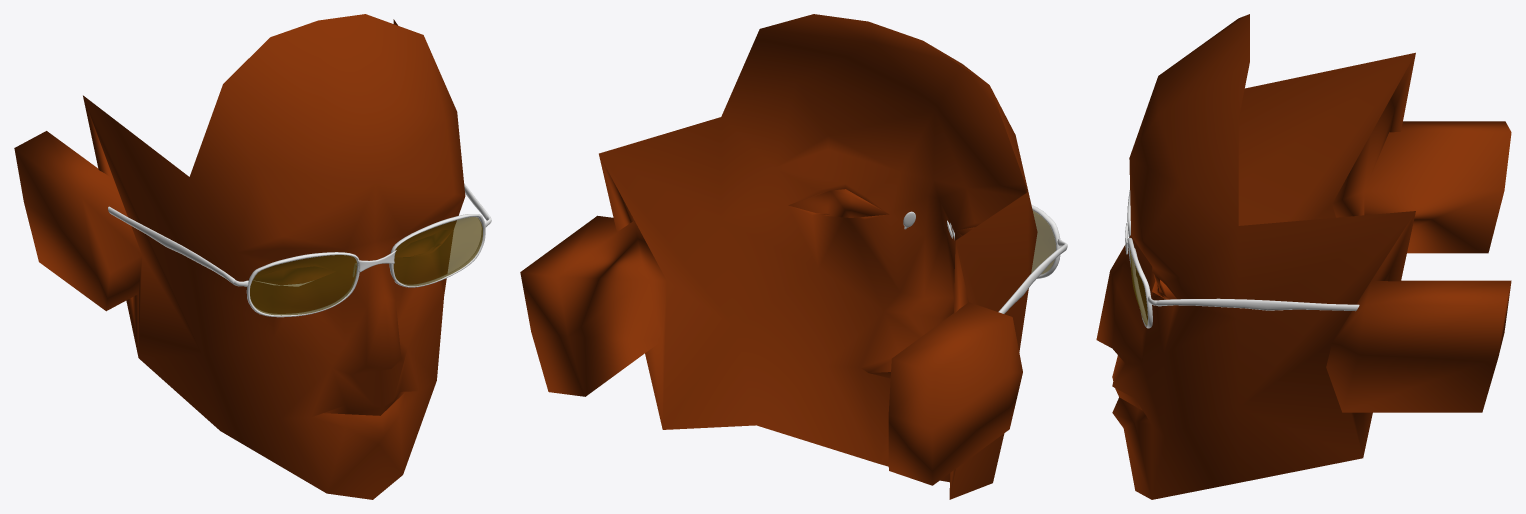
The model's file is glasses8.fbx.
3 views of the same model, side by side, from view 1: azimuth 30°, elevation 25°; view 2: azimuth 150°, elevation 25°; view 3: azimuth 270°, elevation 25° (orthographic). The views are drawn at different scales.
Visible parts, largest first — view 1: occluder_mask, SunGlass_02; view 2: occluder_mask, SunGlass_02; view 3: occluder_mask, SunGlass_02.
Part boxes in pixels (x1,y1,x2,y2): occluder_mask: (14, 14, 465, 499); SunGlass_02: (108, 183, 491, 317); occluder_mask: (520, 14, 1037, 499); SunGlass_02: (903, 204, 1067, 313); occluder_mask: (1096, 14, 1511, 499); SunGlass_02: (1125, 190, 1359, 328).
Bounding box in the file's own units: 0.1748 × 0.2026 × 0.1664.
